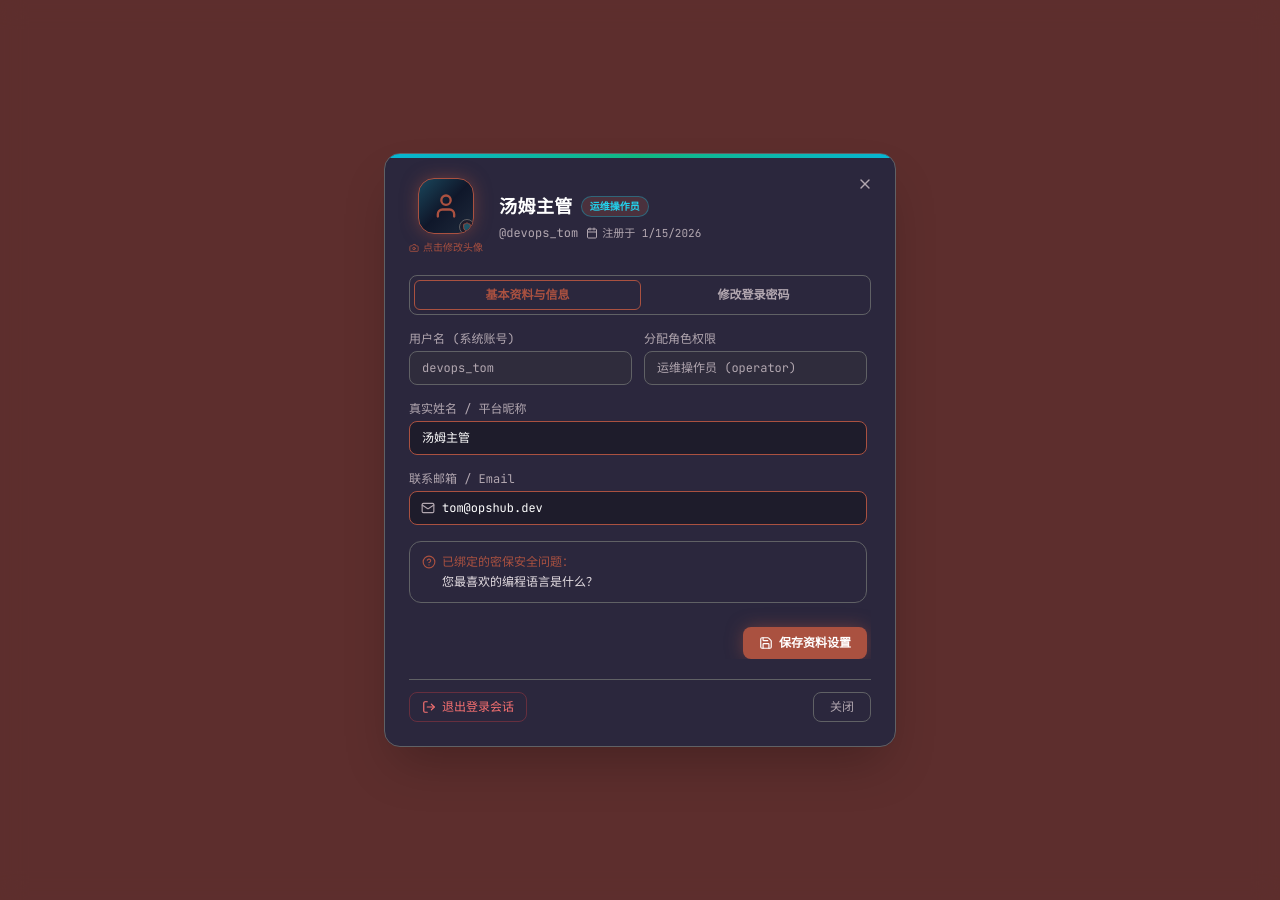
UserProfileModal Component › switches to change password tab and submits new password
Expected: the heading "汤姆主管" is shown, x1=499 y1=192 x2=573 y2=220
# Switch tab
Click the button "修改登录密码". click: (754, 295)
box: x1=641 y1=280 x2=866 y2=310
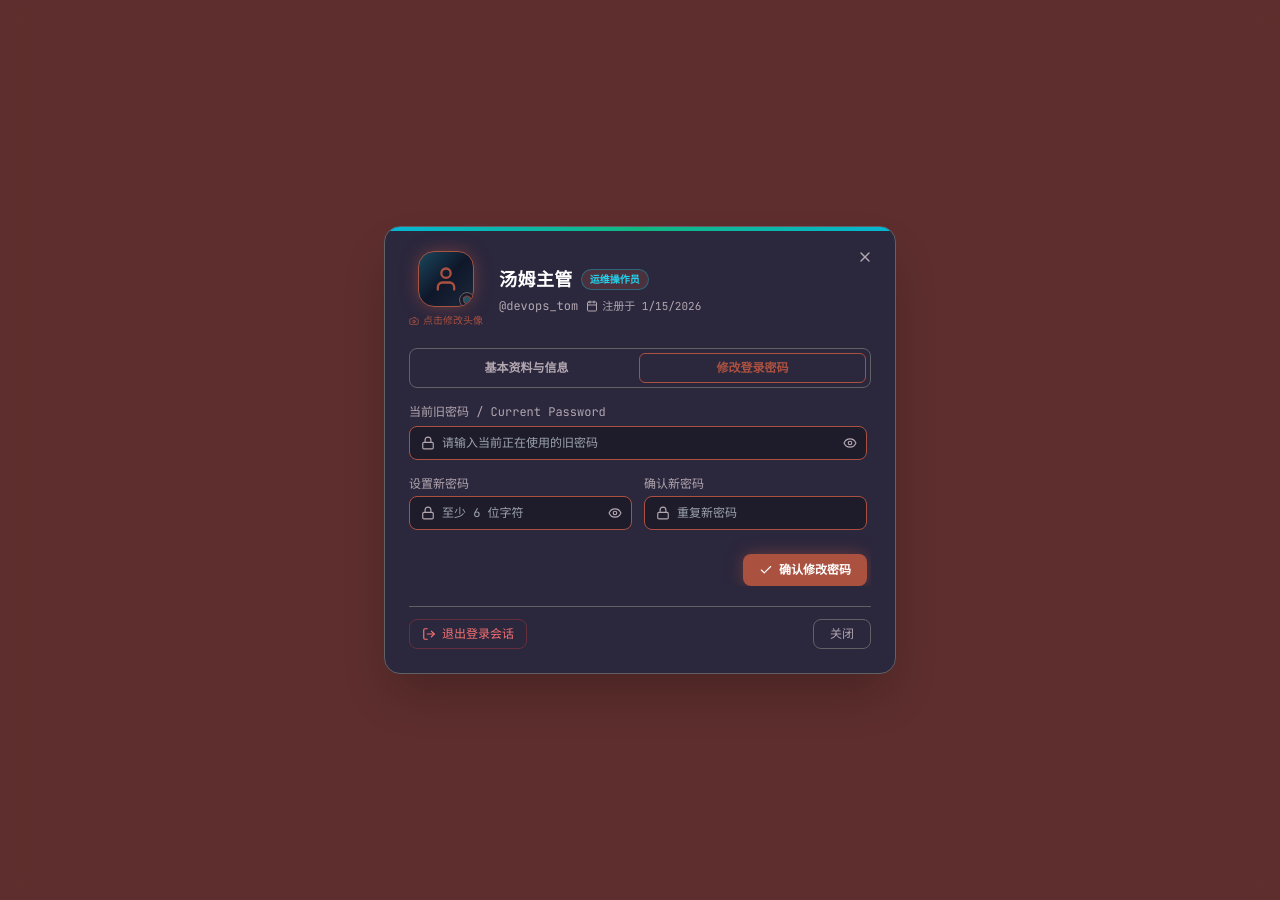
Now the password field with placeholder "请输入当前正在使用的旧密码" is shown
Type "oldPass123" into the password field with placeholder "请输入当前正在使用的旧密码". click: (638, 443)
box: x1=409 y1=426 x2=867 y2=460
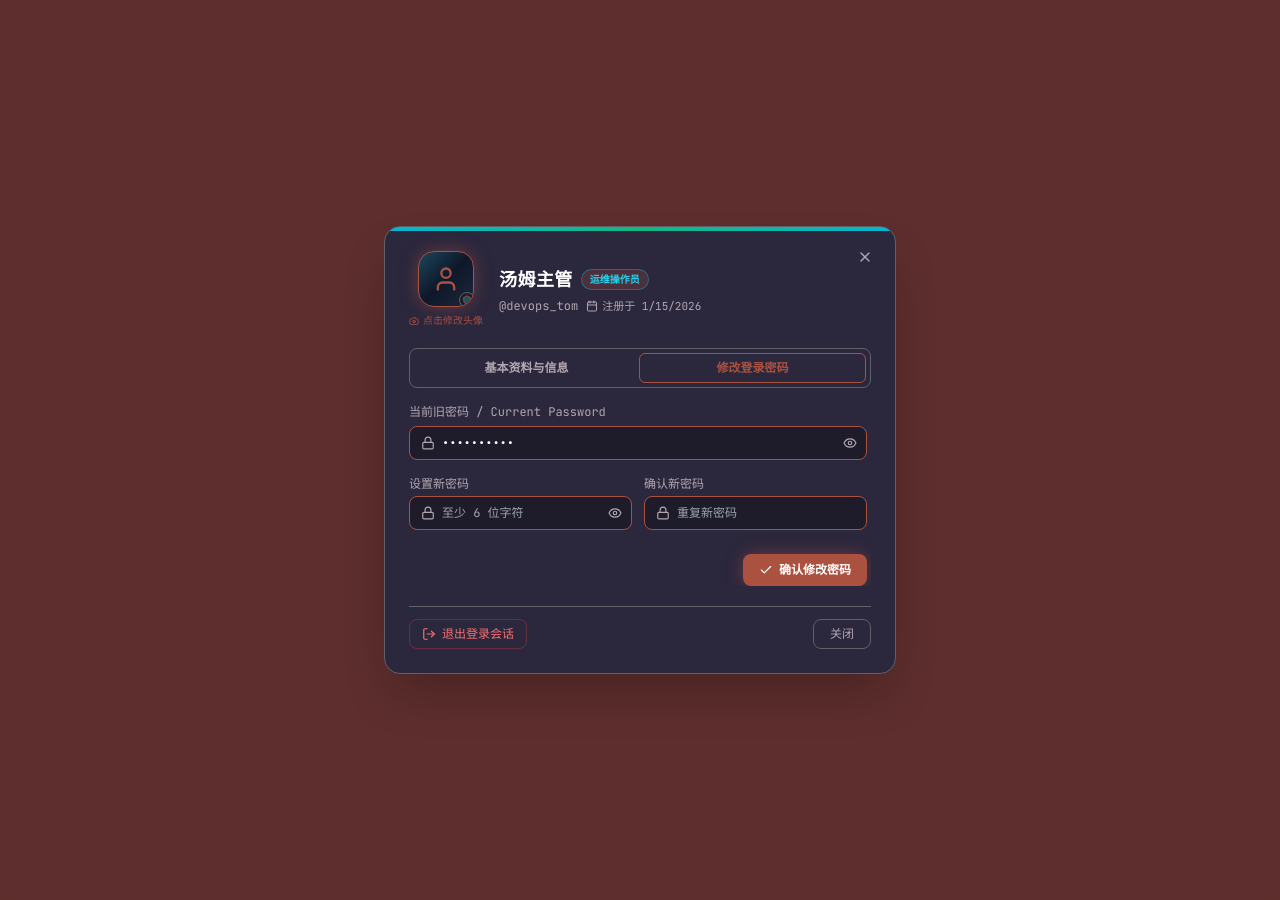
Type "brandNewPass456" into the password field with placeholder "至少 6 位字符". click: (520, 513)
box: x1=409 y1=496 x2=632 y2=530
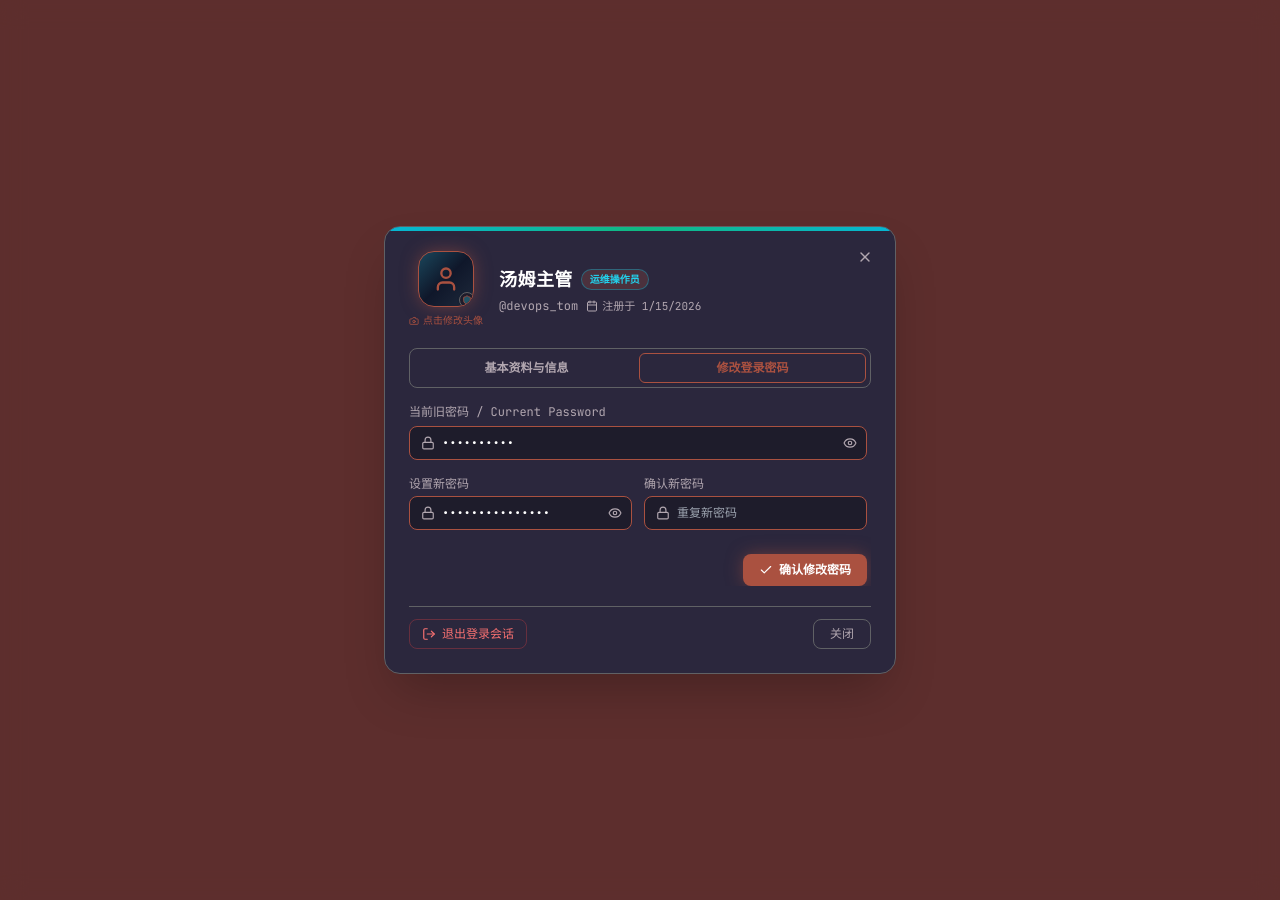
Type "brandNewPass456" into the password field with placeholder "重复新密码". click: (756, 513)
box: x1=644 y1=496 x2=867 y2=530
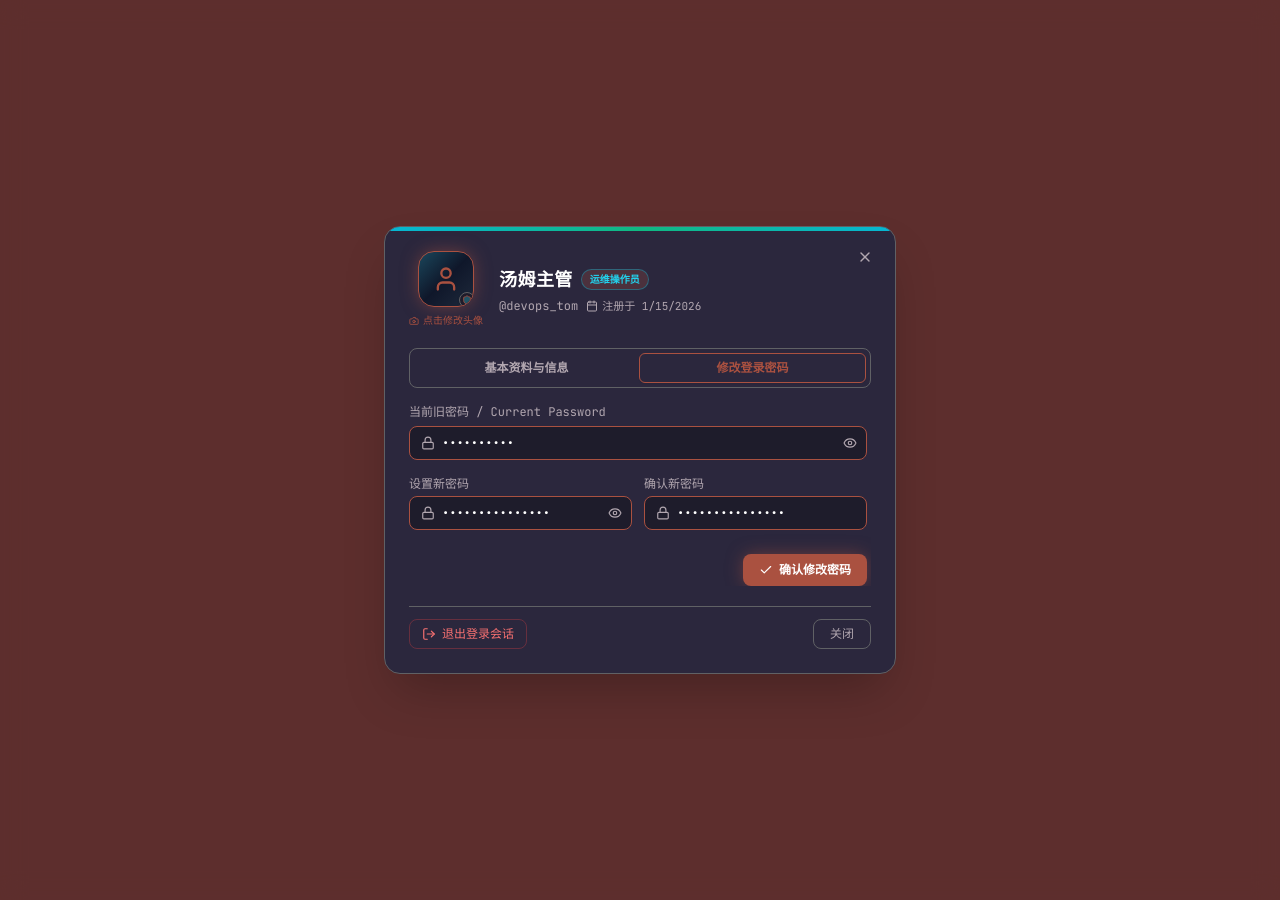
Click the button "确认修改密码". click: (805, 570)
box: x1=743 y1=554 x2=867 y2=586
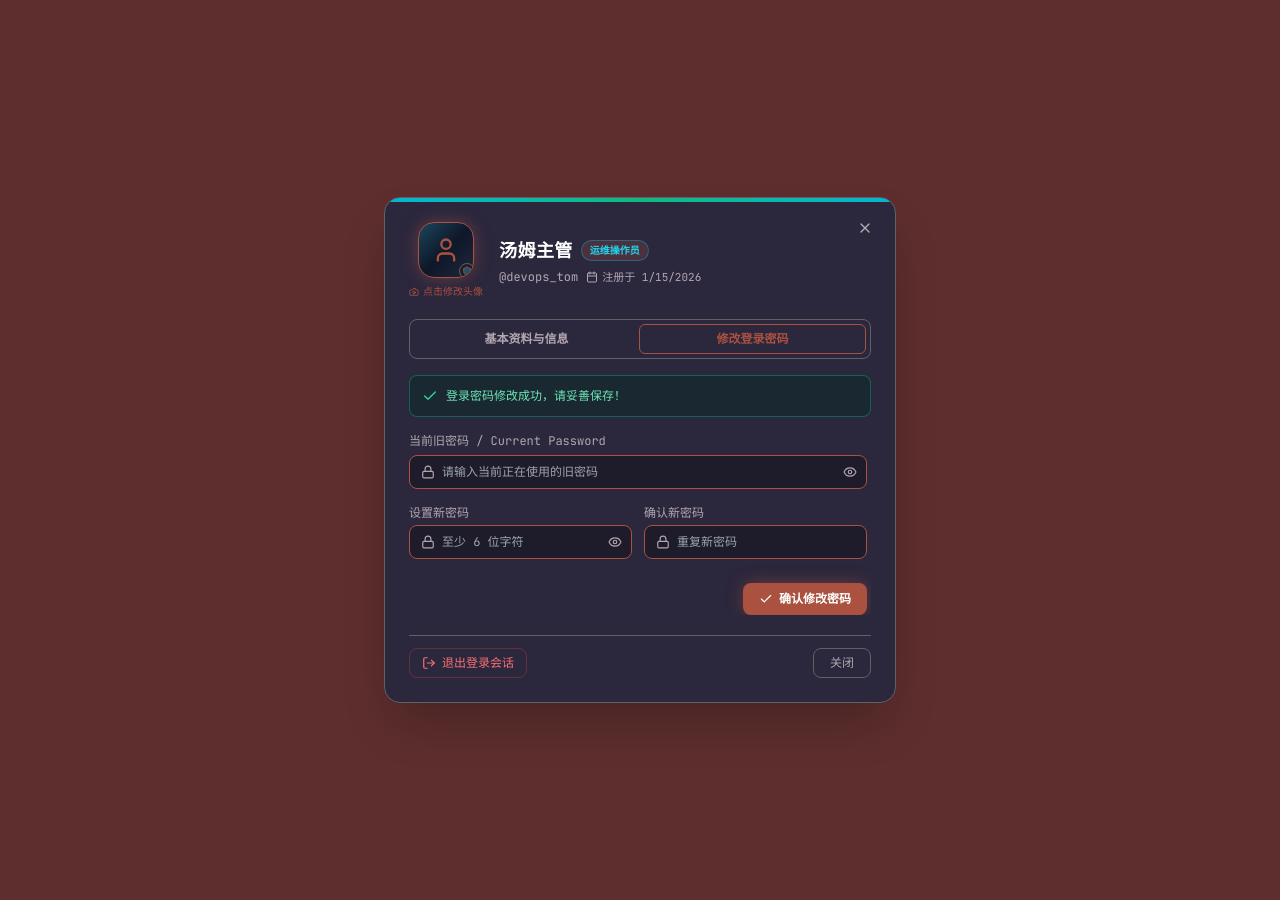
Now the text "登录密码修改成功，请妥善保存！" is shown, box x1=446 y1=388 x2=626 y2=404
